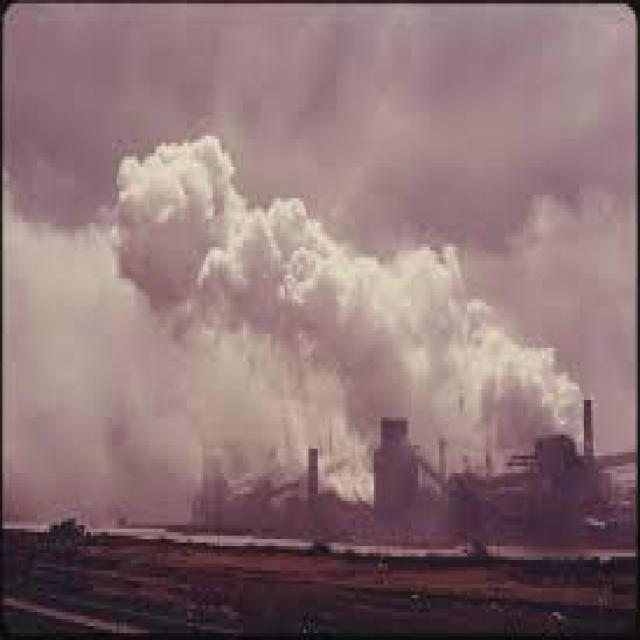smoke: (79, 122, 582, 414)
